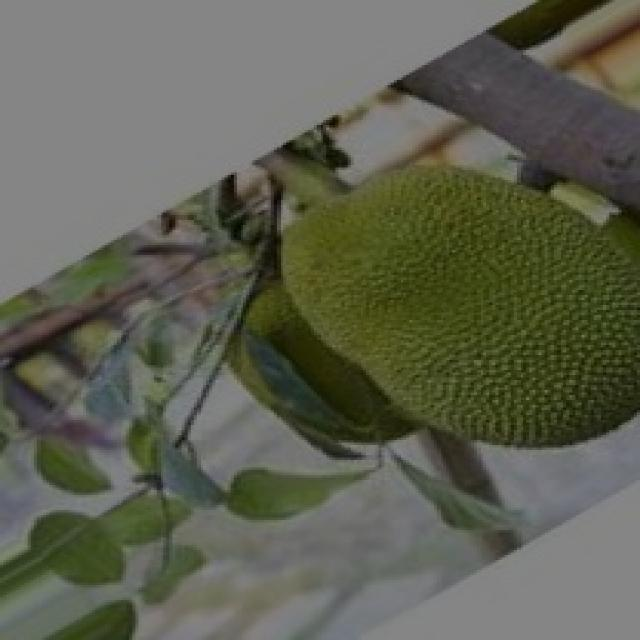Fruit: (249, 130, 640, 472)
